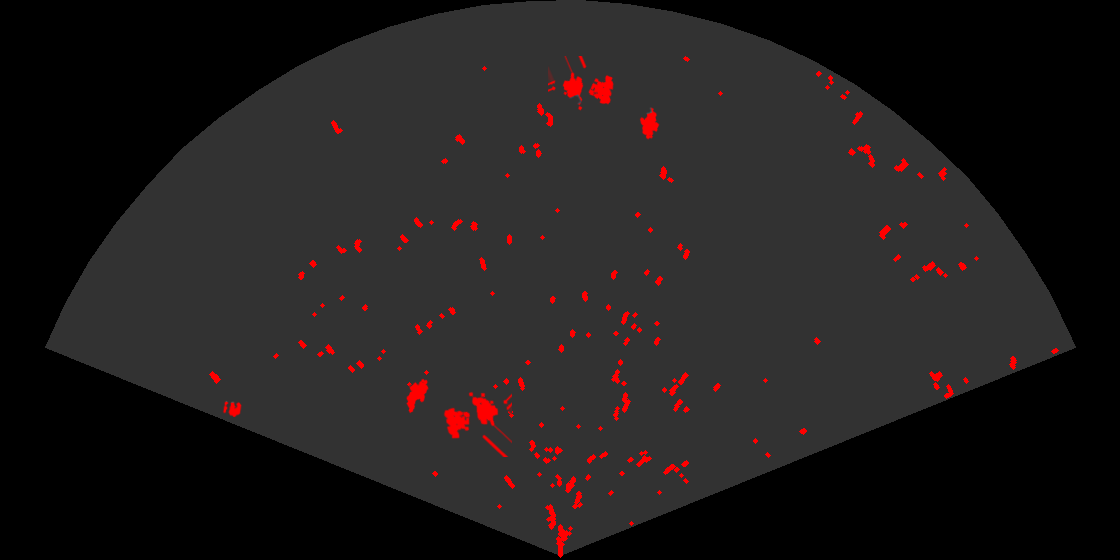AUV: (405, 377, 430, 415), (638, 106, 661, 141)
ball: (221, 400, 243, 419)
cage: (442, 390, 512, 457), (548, 56, 615, 112)
